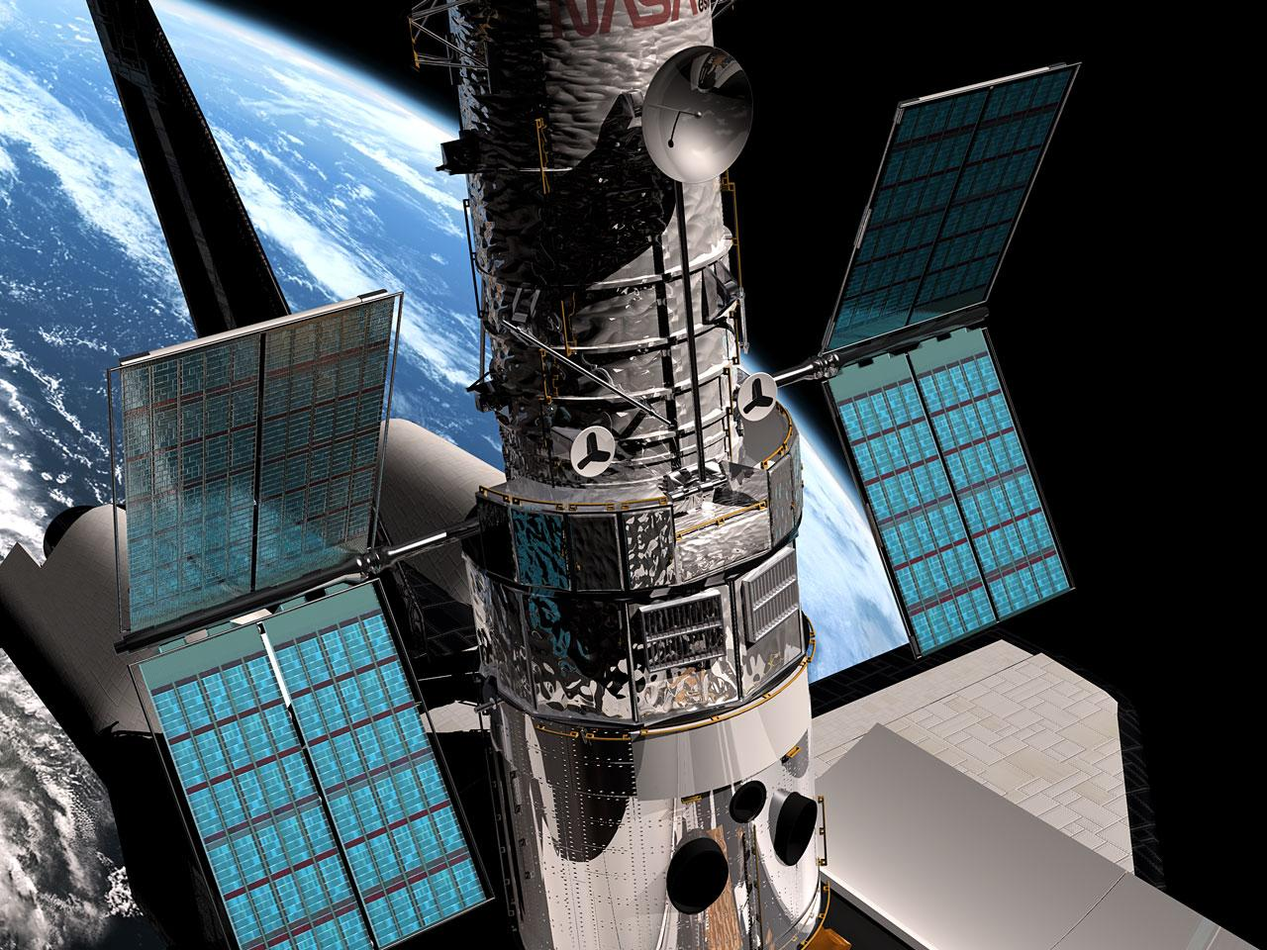antenna: (639, 43, 756, 186)
body: (439, 0, 828, 950)
solar: (125, 574, 498, 950), (103, 286, 407, 636), (820, 325, 1081, 663), (819, 56, 1086, 358)
